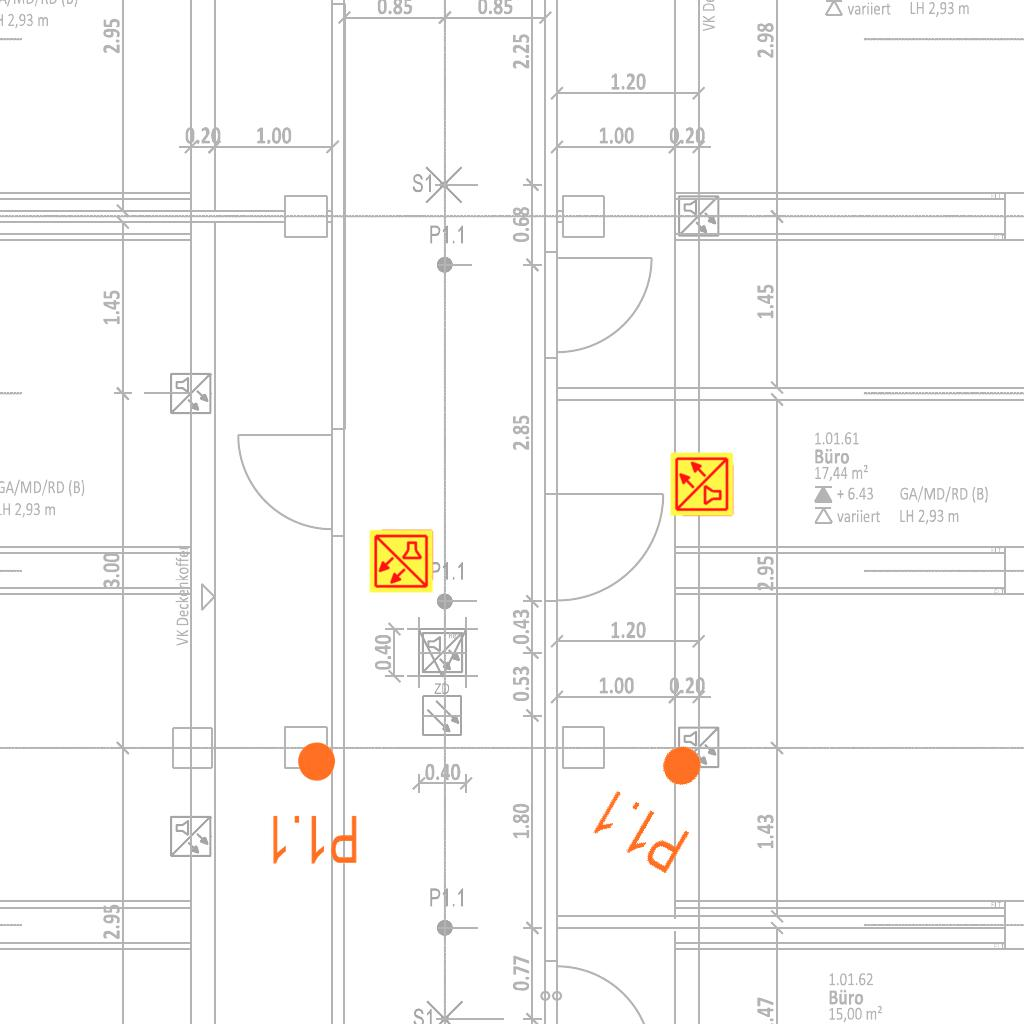Downlight_LED_Einbauleuchten_Flur: (586, 721, 731, 879), (267, 739, 360, 867)
OKW_Multisensormelder_(Kombination_optischer_Rauch-Kahlenmonoxid_Waerme-Melder): (669, 451, 735, 517), (368, 528, 434, 594)
